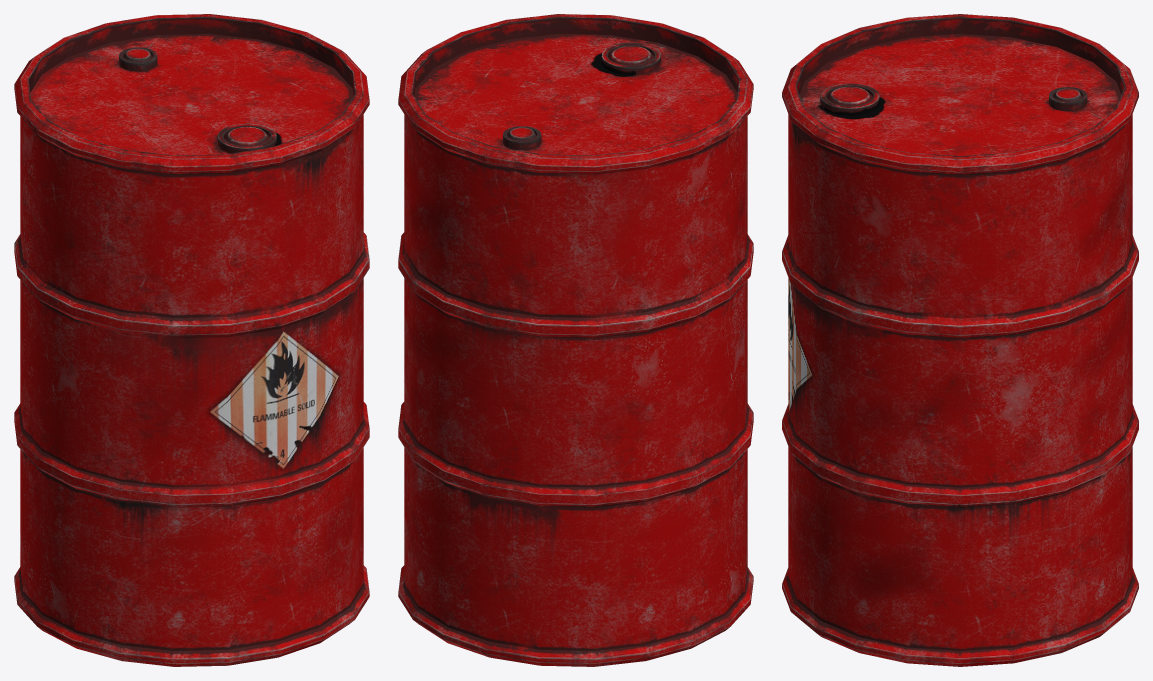
The model's file is cargo.glb.
3 renders of one model, left to right at view 1: azimuth 30°, elevation 25°; view 2: azimuth 150°, elevation 25°; view 3: azimuth 270°, elevation 25°, orthographic.
Parts seen in each view (by area): view 1: metalBarrel; view 2: metalBarrel; view 3: metalBarrel.
Part boxes in pixels (x1=…): metalBarrel: x1=14, y1=14, x2=369, y2=666; metalBarrel: x1=398, y1=14, x2=753, y2=666; metalBarrel: x1=782, y1=14, x2=1138, y2=666.
Bounding box in the file's own units: 0.6196 × 0.9723 × 0.6196.
Materials: 1 (1 with a texture image).
